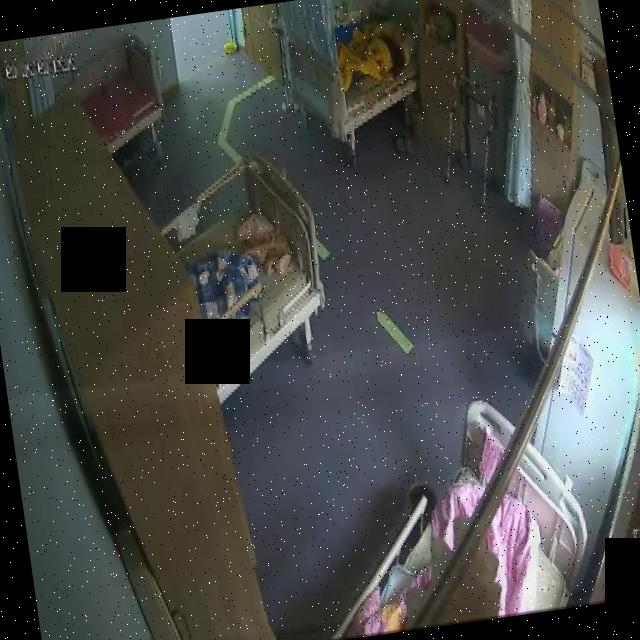bed: (336, 388, 596, 636), (172, 146, 338, 404), (284, 2, 427, 144), (75, 30, 179, 146)
